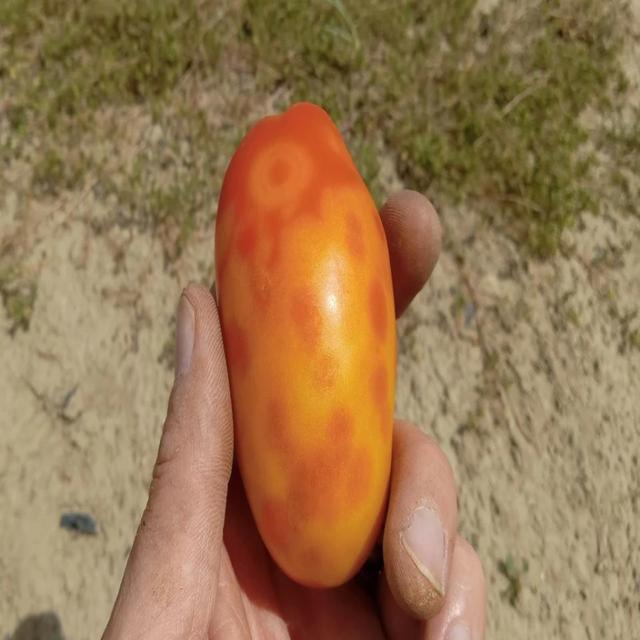Spotted wilt Virus Fruit: (142, 67, 265, 395)
